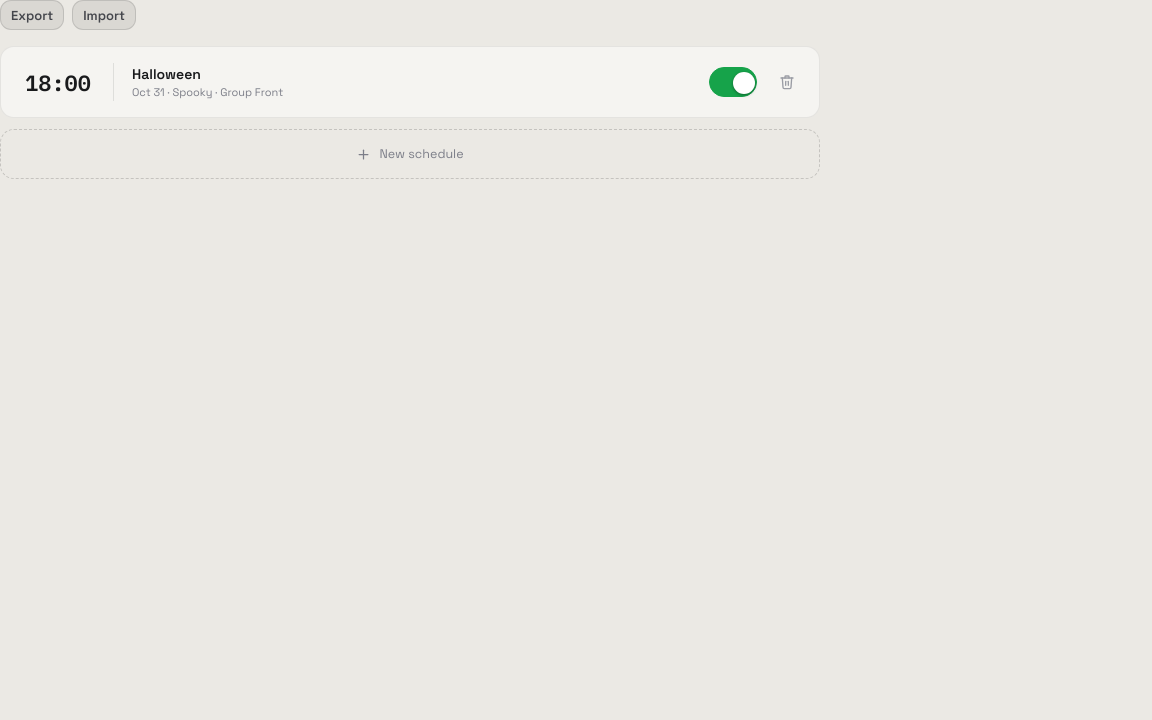
ScheduleSection (unified list) › clicking a calendar-event row opens a pre-filled edit form
Check: the text "Halloween" is shown, box 132,65 -> 201,83
Click the button with aria-label "Edit Halloween". click: x=166, y=74
box: 132,65 -> 691,99
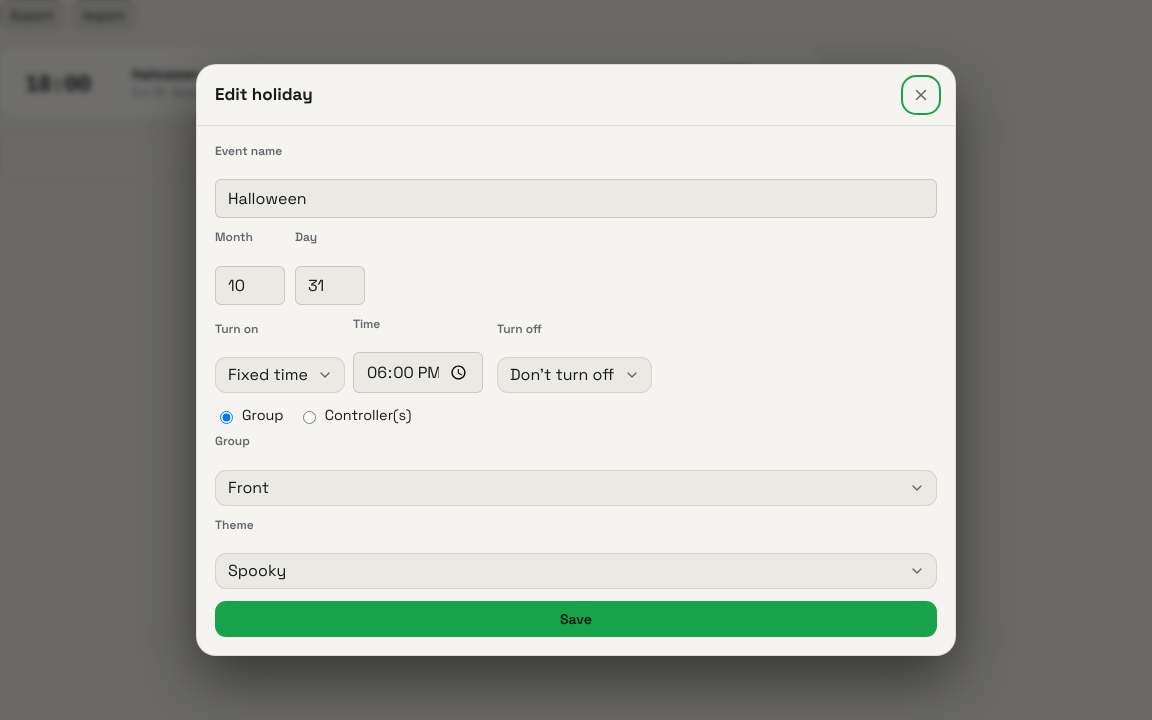
Check: the field labelled "Event name" holds "Halloween", box 215,179 -> 937,218
